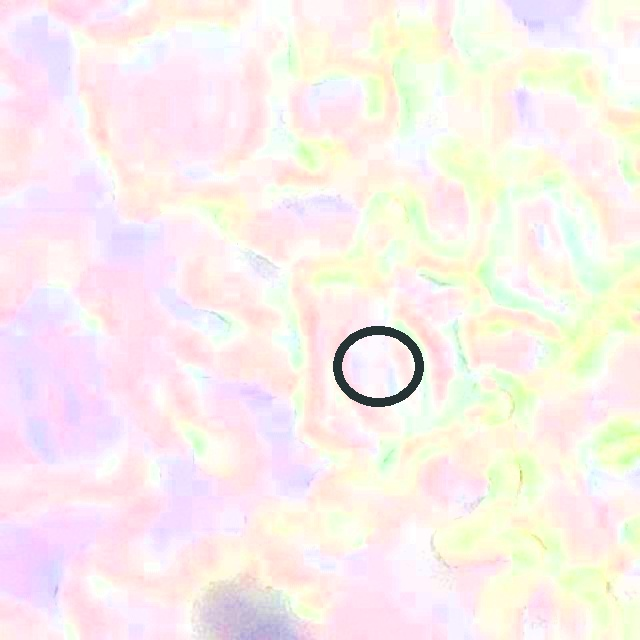open: (333, 325, 424, 406)
